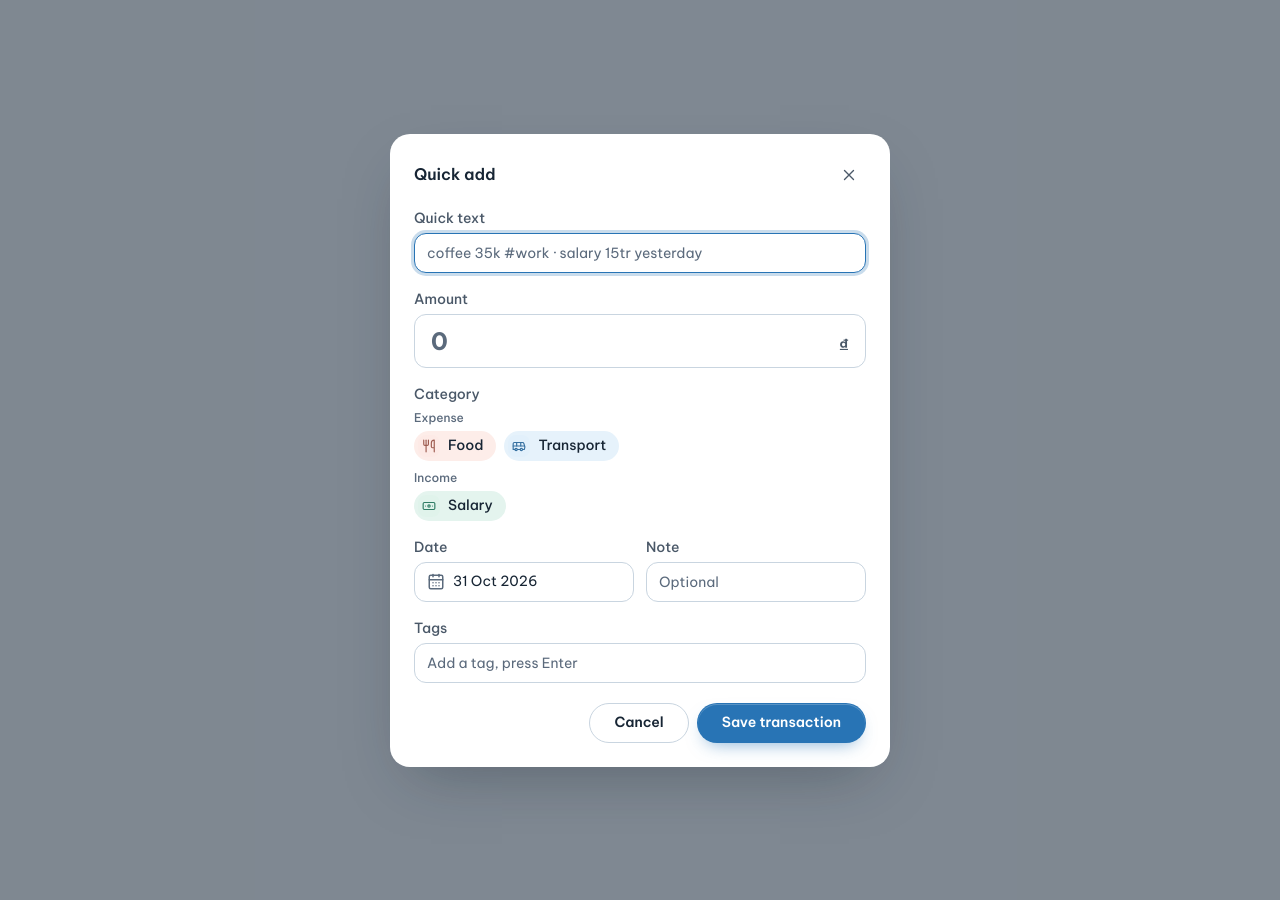
Test: QuickAddDialog: the text line › keeps a field the user changed by hand when the text changes again
Check: the button "Food" is shown, box [414,430,496,460]
Type "coffee 35k" into the field labelled "Quick text" at (640, 252), box [414,232,866,272]
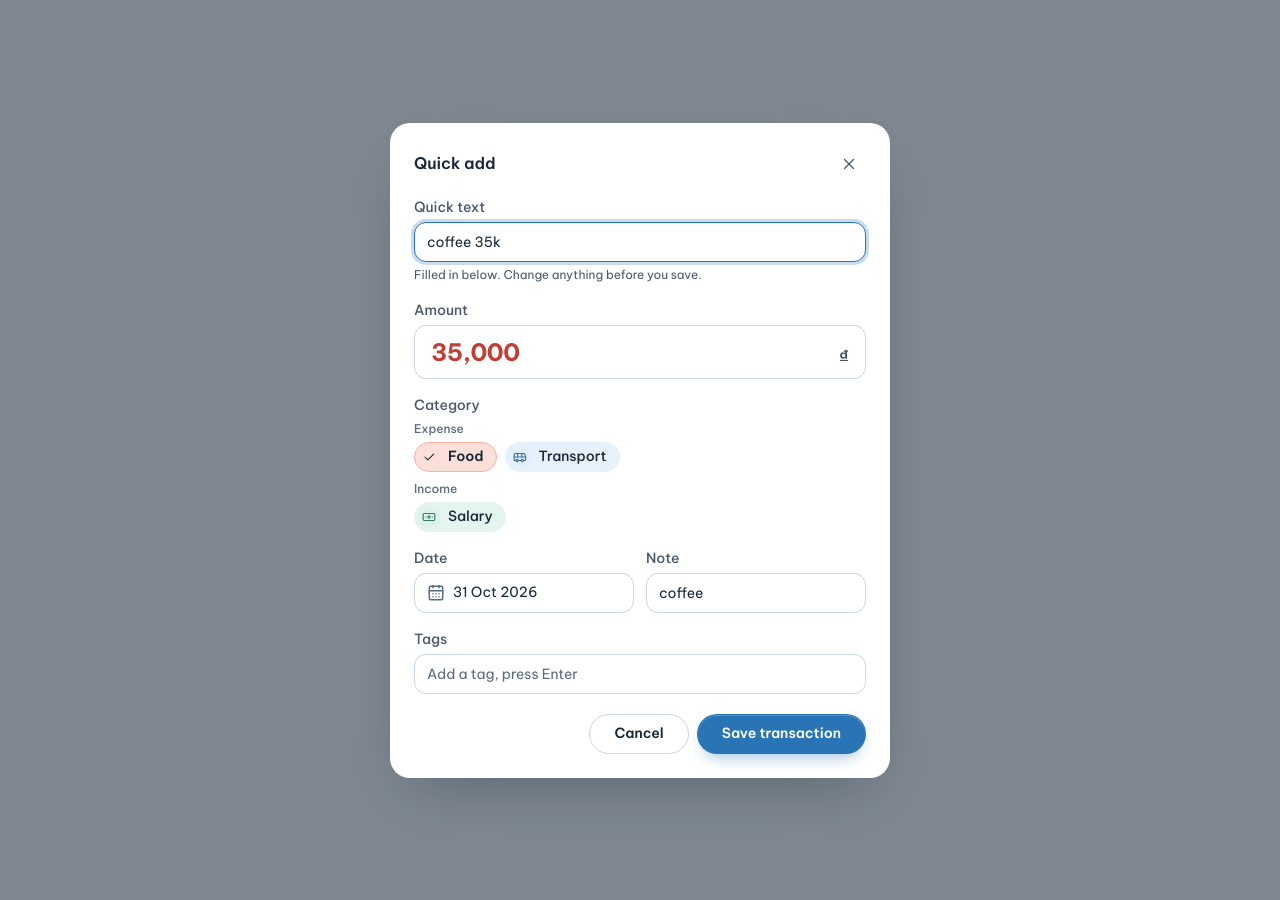
Replace the text in the field labelled "Amount" with "50000" at (631, 352), box [431,334,831,370]
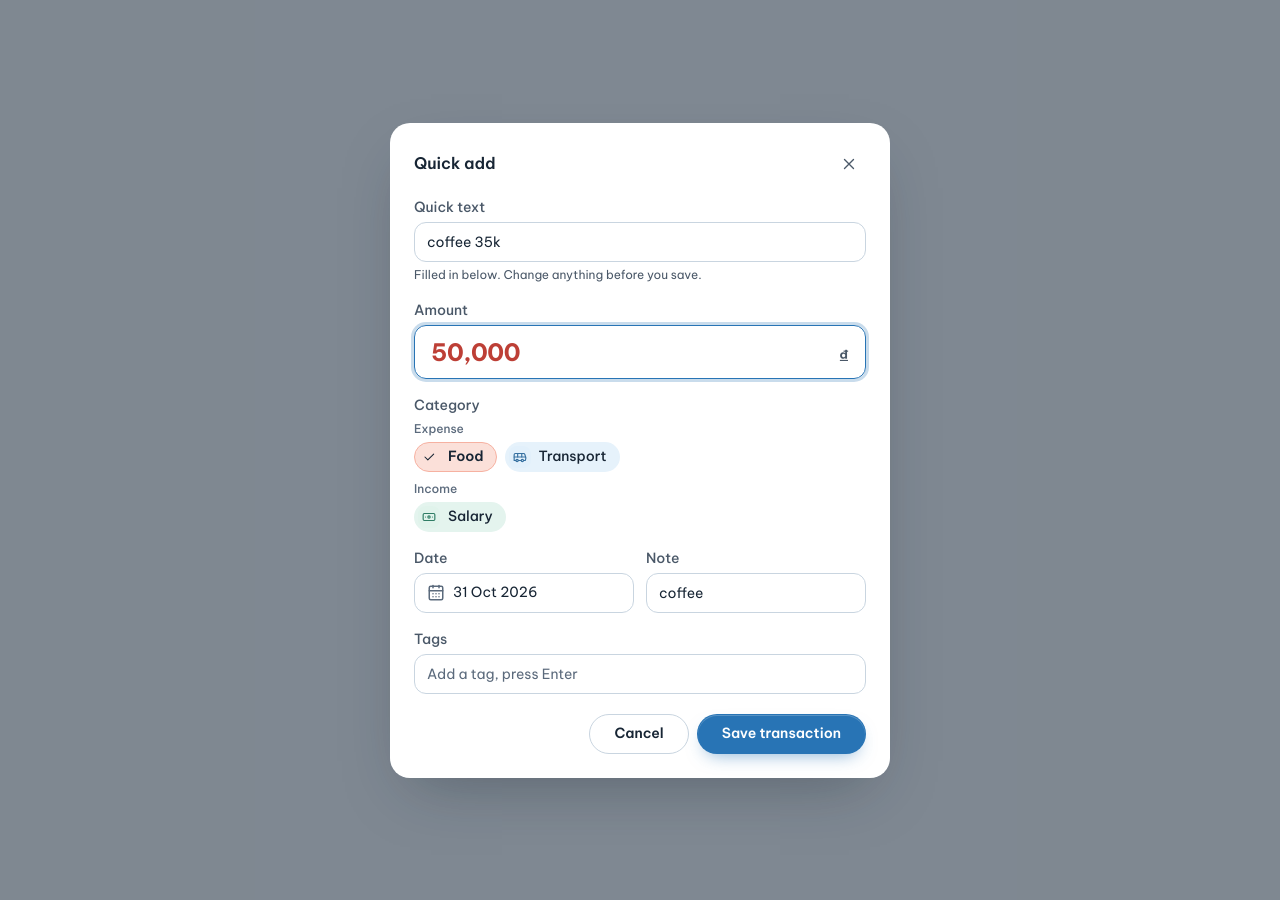
Click the button "Transport" at (562, 456), box [505,442,620,472]
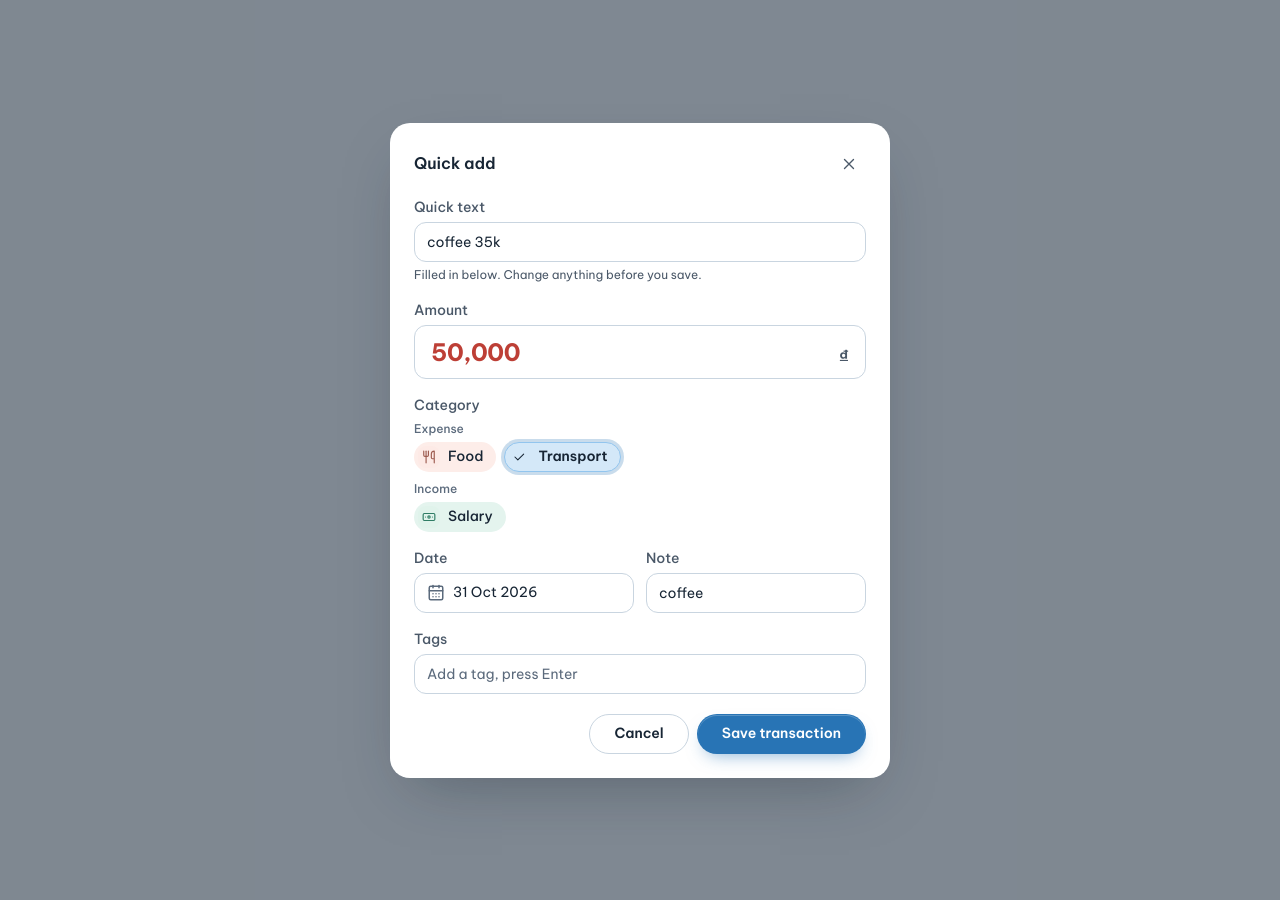
Type " 99k #work" into the field labelled "Quick text" at (640, 242), box [414,222,866,262]
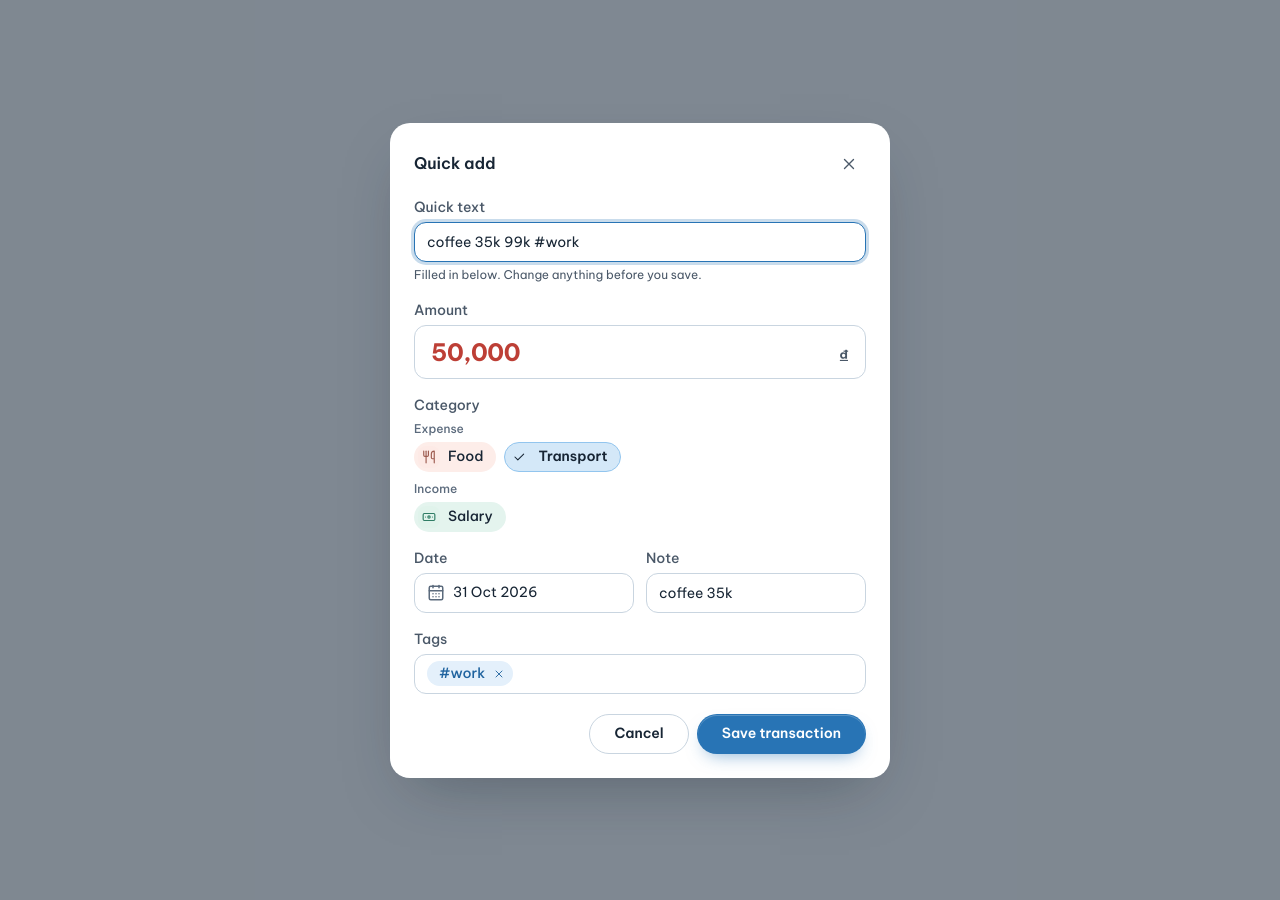
Check: the field labelled "Amount" holds "50,000", box [431,334,831,370]
Check: the button named "Remove tag work" is shown, box [489,664,509,684]
